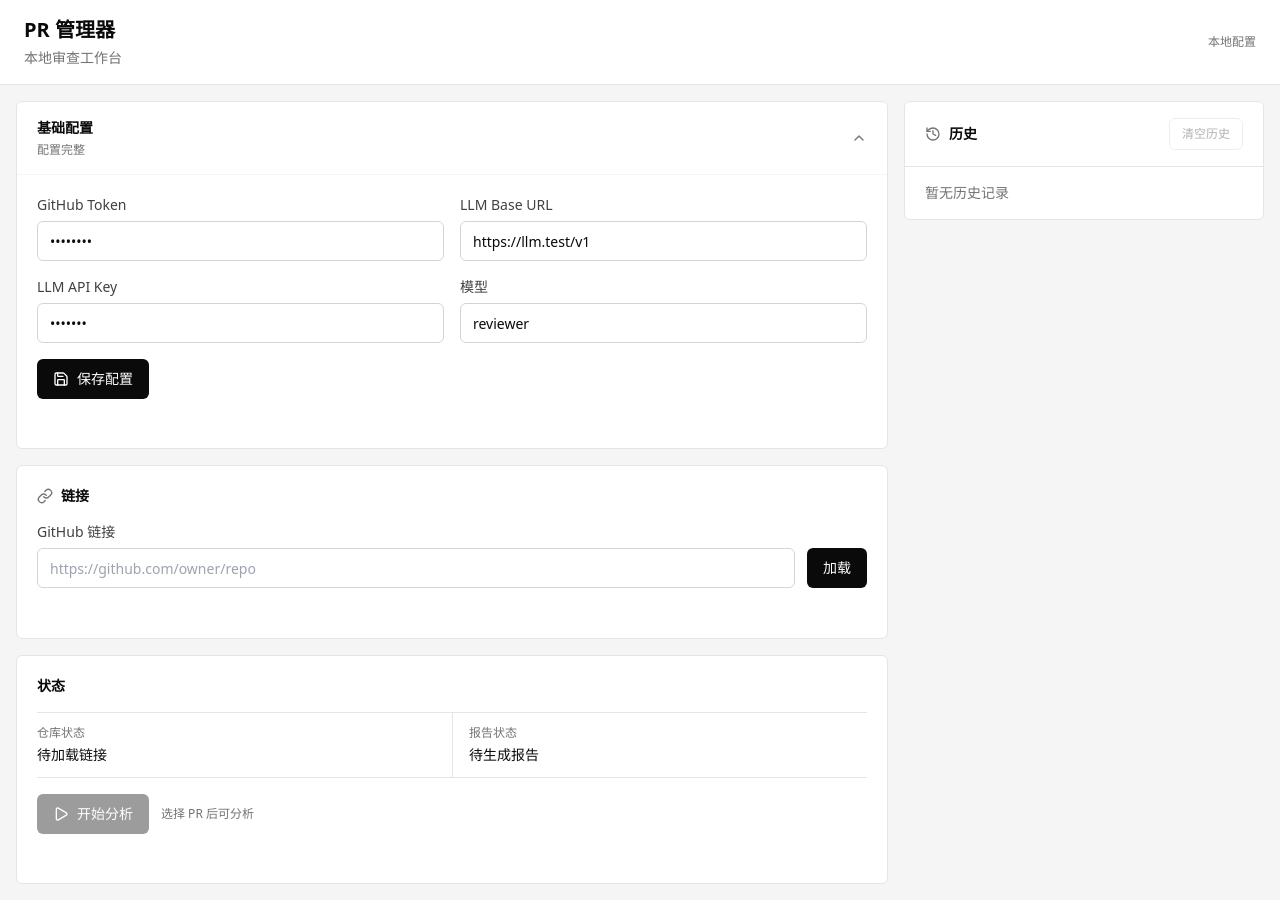
Test: PR selection and analysis flow › loads open pull requests from a repository URL
This screenshot has width=1280, height=900.
Type "https://github.com/octo/repo" into the field labelled "GitHub 链接" at (416, 568), box [37, 548, 795, 588]
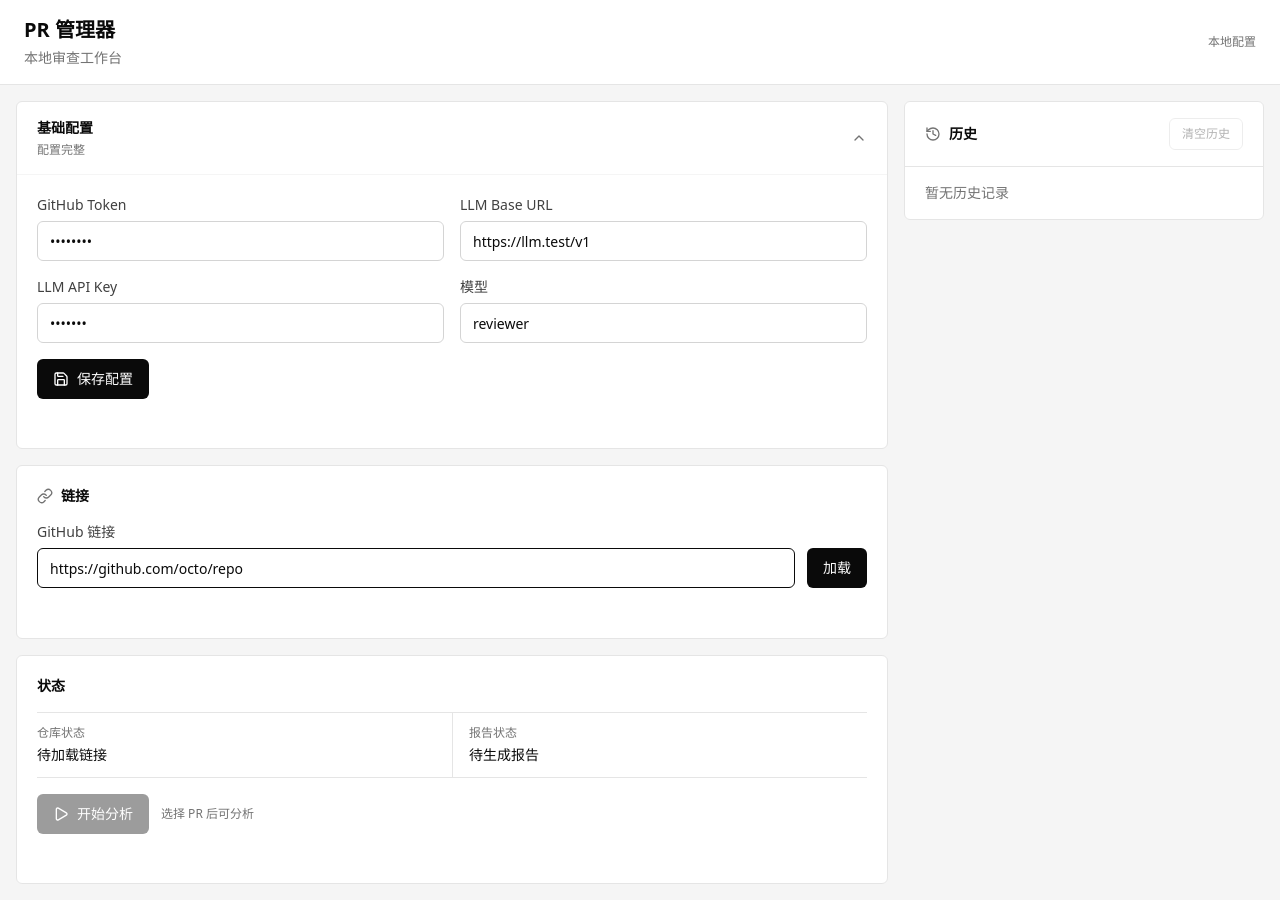
Click the button "加载" at (837, 568), box [807, 548, 867, 588]
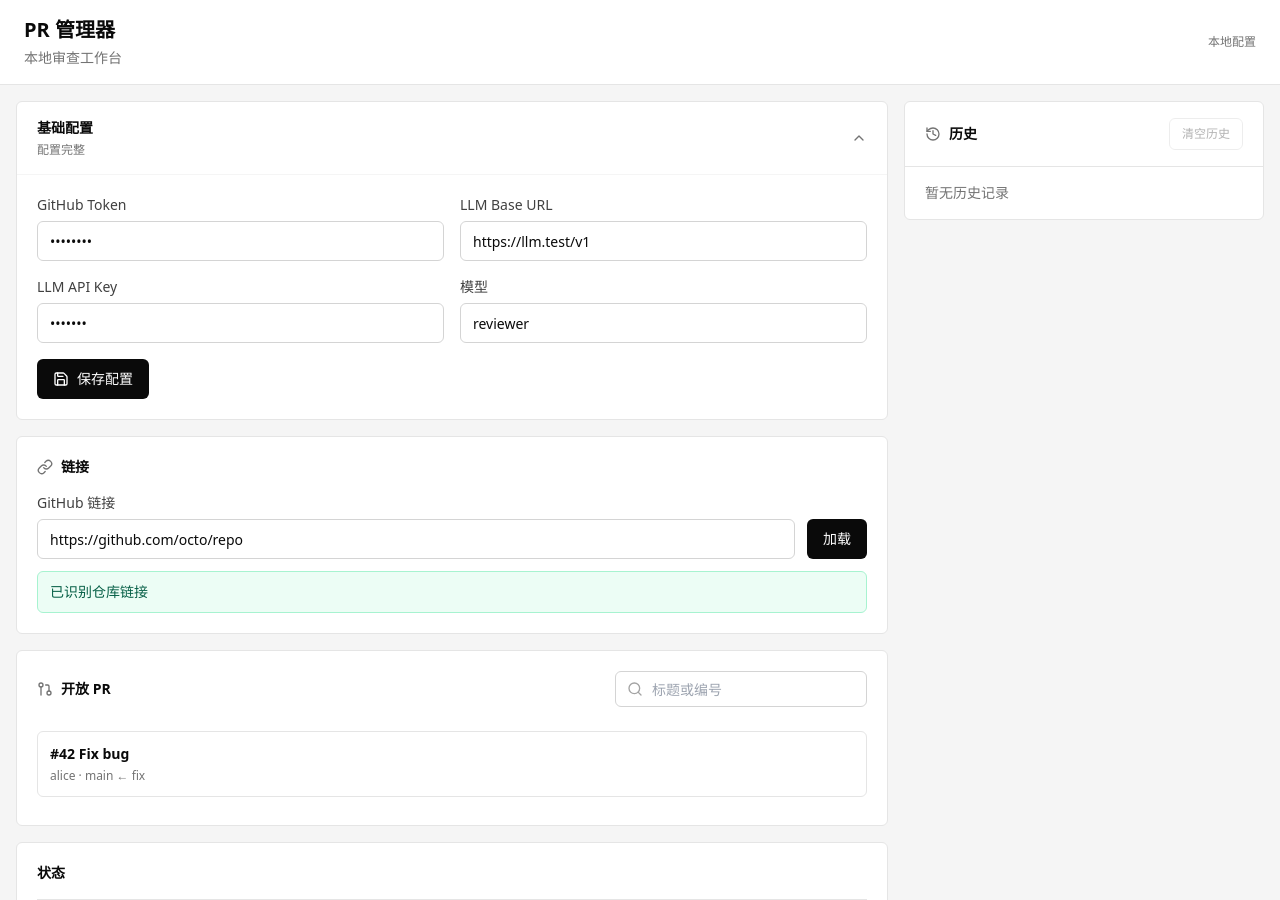
Expected: the text "#42 Fix bug" is shown, [50, 744, 129, 763]
